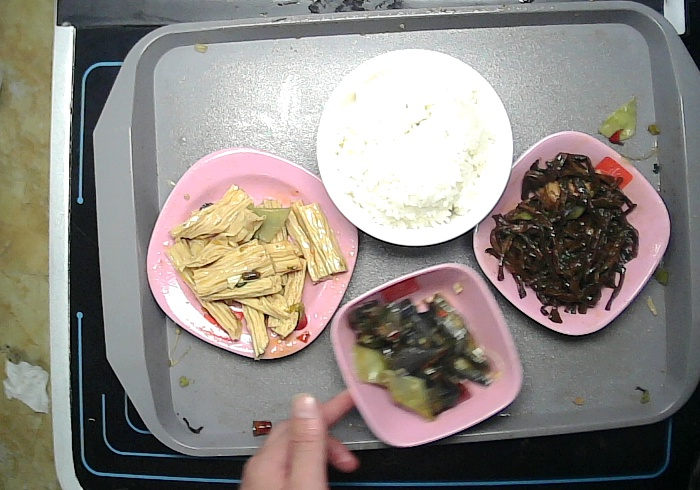SHKJ-Fan_Wan: (312, 46, 517, 252)
SHKJ-Fen_Se_Cai_Die: (469, 126, 675, 340)
SHKJ-Fen_Se_Si_Fang_Cai_Die: (141, 142, 365, 367)
SHKJ-Fen_Se_Xiao_Fang_Die: (327, 259, 530, 447)
